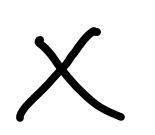mult: (17, 27, 125, 121)
